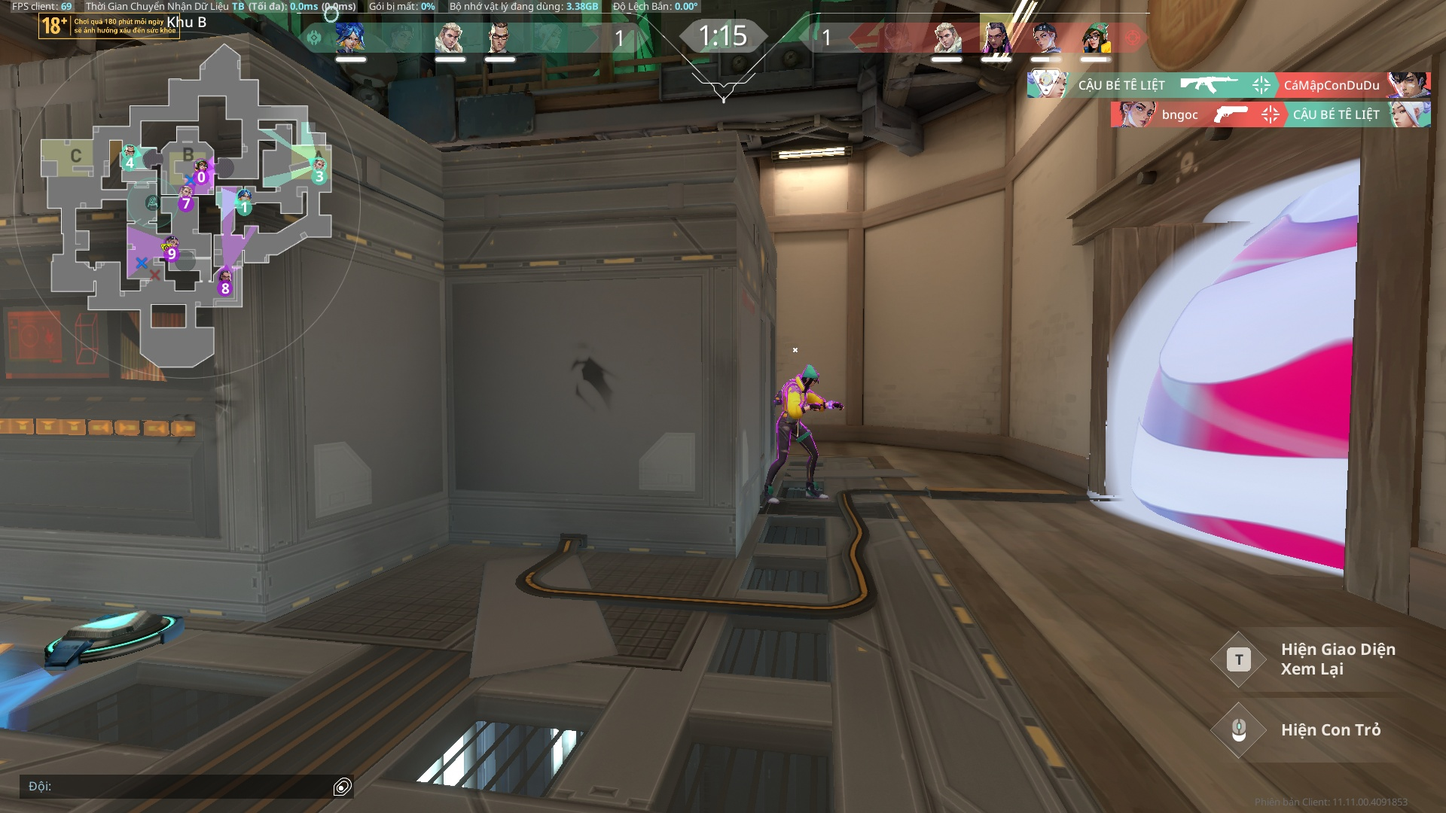body: (778, 376, 808, 413)
head: (801, 366, 818, 386)
